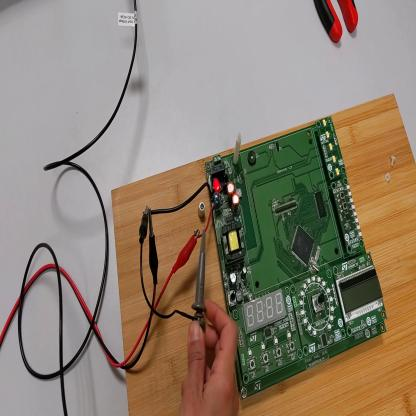hand: (180, 302, 241, 416)
low voltage board: (151, 117, 387, 399)
oscilloscope probe tip: (191, 225, 206, 330)
pliers: (315, 1, 359, 46)
working area: (113, 94, 415, 415)
